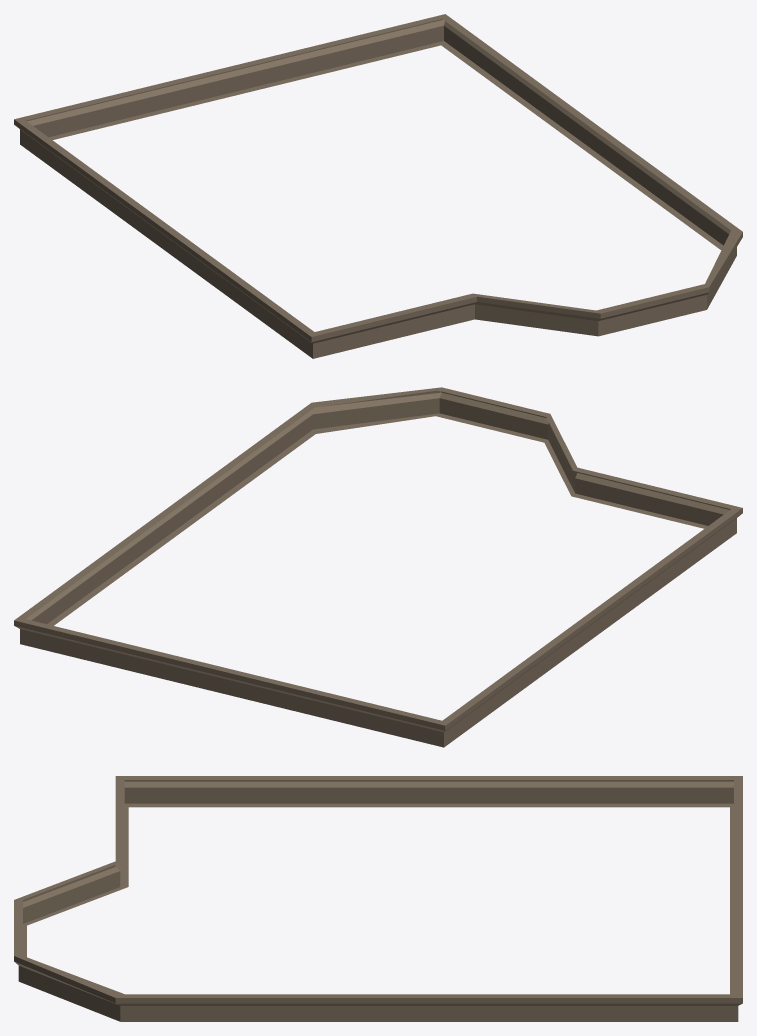
File: SM_Bldg_City_Apartment_T2_Cornice_03.fbx
3 renders of one model, top to bottom at view 1: azimuth 30°, elevation 25°; view 2: azimuth 150°, elevation 25°; view 3: azimuth 270°, elevation 25°, orthographic. The views are drawn at different scales.
Visible parts, largest first — view 1: SM_Bldg_City_Apartment_T2_Cornice_03; view 2: SM_Bldg_City_Apartment_T2_Cornice_03; view 3: SM_Bldg_City_Apartment_T2_Cornice_03.
Part boxes in pixels (box(x1,y1,x2,y2)): SM_Bldg_City_Apartment_T2_Cornice_03: box(14, 14, 742, 358); SM_Bldg_City_Apartment_T2_Cornice_03: box(14, 387, 742, 747); SM_Bldg_City_Apartment_T2_Cornice_03: box(14, 776, 742, 1021).
Bounding box in the file's own units: 516 × 27.89 × 717.
